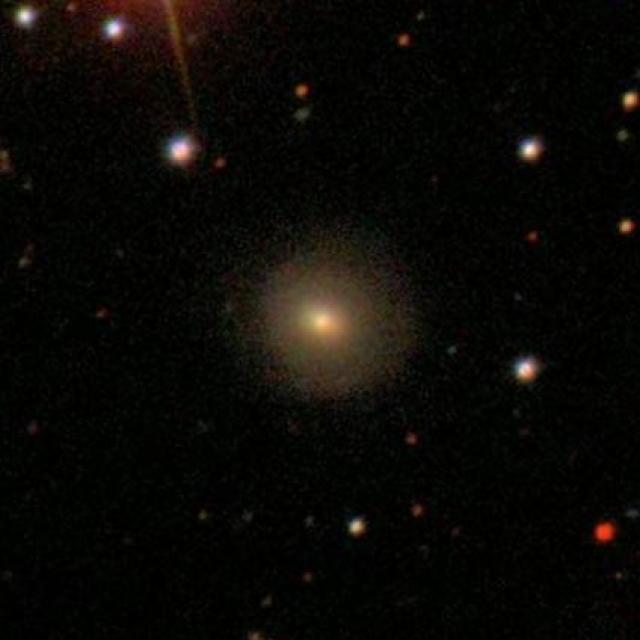galaxy: (215, 225, 425, 405), (164, 131, 204, 171), (509, 350, 544, 392), (98, 15, 130, 48), (514, 137, 549, 164), (591, 516, 617, 552), (10, 5, 43, 33), (523, 226, 548, 251), (618, 87, 639, 114), (614, 212, 635, 238), (19, 176, 41, 198), (347, 514, 367, 538), (211, 154, 231, 173), (297, 570, 320, 586), (110, 246, 129, 265), (1, 148, 13, 178), (94, 304, 111, 325), (611, 129, 631, 146), (395, 31, 411, 52), (410, 502, 426, 523), (27, 420, 42, 441), (305, 513, 322, 531), (258, 596, 277, 612), (291, 84, 311, 99), (16, 257, 41, 269), (414, 7, 429, 26), (243, 628, 266, 640), (297, 106, 313, 123), (404, 433, 419, 450), (448, 342, 461, 361), (197, 509, 209, 525), (63, 3, 82, 13), (614, 567, 624, 580)
star: (57, 1, 260, 127)
